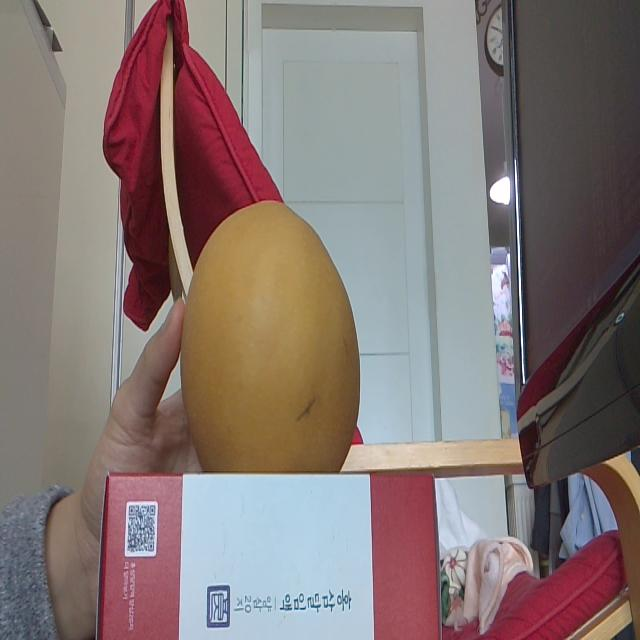pear: (178, 197, 362, 478)
